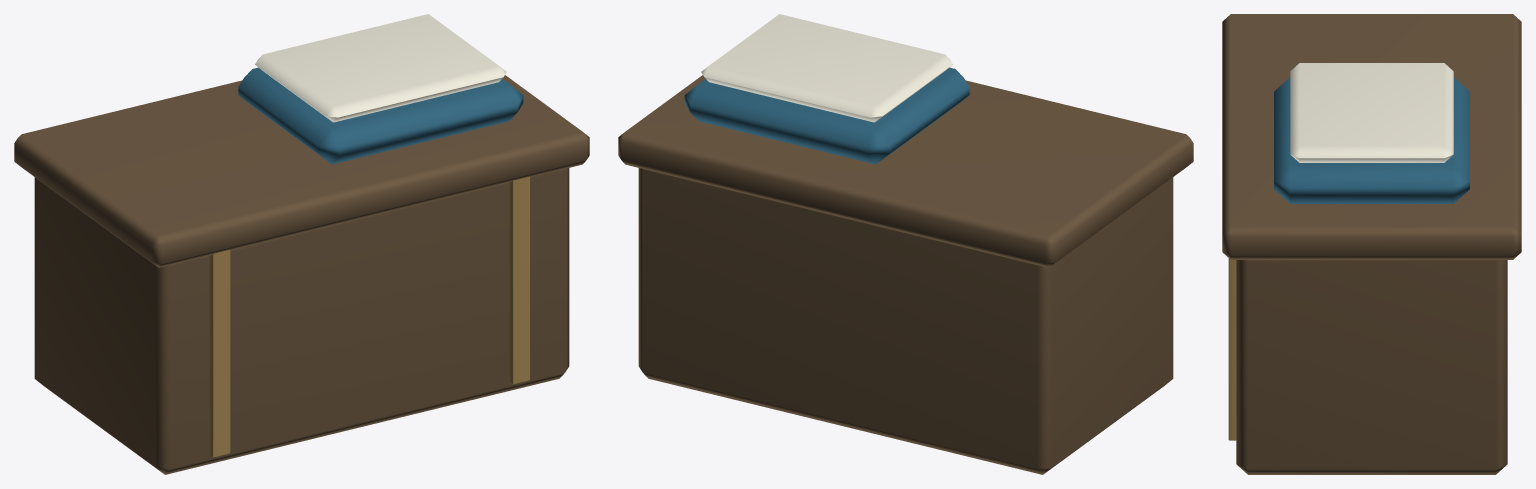
Rendered from home_chest.glb.
3 renders of one model, left to right at view 1: azimuth 30°, elevation 25°; view 2: azimuth 150°, elevation 25°; view 3: azimuth 270°, elevation 25°, orthographic. The views are drawn at different scales.
Visible parts, largest first — view 1: blanket chest, folded pillowcase, folded coverlet, chest brass strap; view 2: blanket chest, folded pillowcase, folded coverlet; view 3: blanket chest, folded pillowcase, folded coverlet, chest brass strap.
Part boxes in pixels (x1,y1,x2,y2): blanket chest: (14, 75, 589, 474); folded pillowcase: (255, 14, 506, 122); folded coverlet: (238, 67, 523, 164); chest brass strap: (209, 176, 530, 457); blanket chest: (618, 75, 1193, 474); folded pillowcase: (701, 14, 952, 122); folded coverlet: (684, 67, 969, 164); blanket chest: (1222, 14, 1521, 474); folded pillowcase: (1290, 63, 1453, 162); folded coverlet: (1274, 77, 1469, 203); chest brass strap: (1228, 258, 1236, 440).
Bounding box in the file's own units: 1.11 × 0.735 × 0.64.
